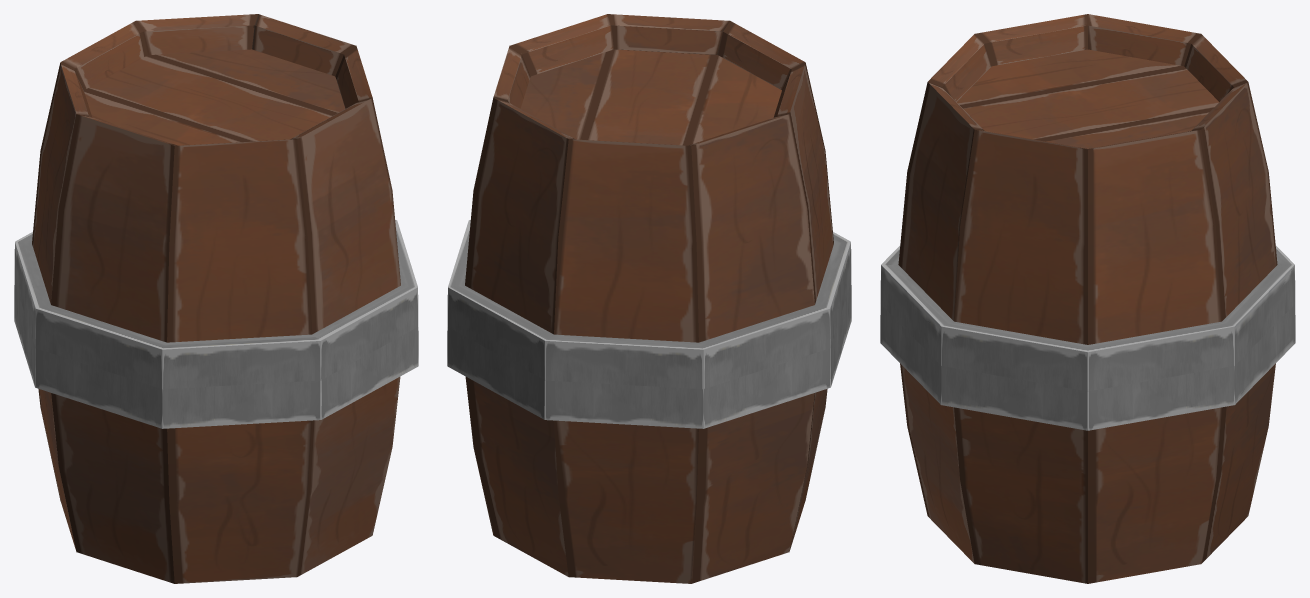
File: Barrel.fbx
3 renders of one model, left to right at view 1: azimuth 30°, elevation 25°; view 2: azimuth 150°, elevation 25°; view 3: azimuth 270°, elevation 25°, orthographic.
Visible parts, largest first — view 1: Barrel; view 2: Barrel; view 3: Barrel.
Boxes of the visible parts, x1,y1,x2,y2 form: Barrel: (14,14,418,583); Barrel: (447,14,851,583); Barrel: (880,14,1295,583).
Bounding box in the file's own units: 123 × 142 × 123.
